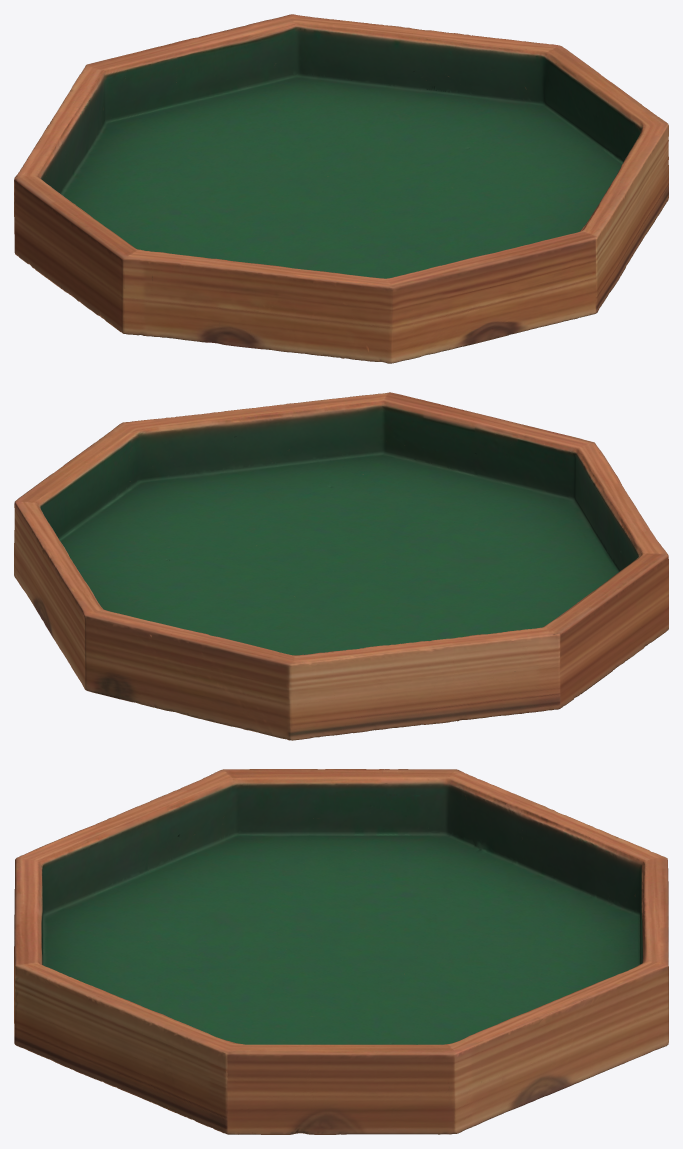
File: bowl_2.obj
The picture shows the model from 3 angles, top to bottom: view 1: azimuth 30°, elevation 25°; view 2: azimuth 150°, elevation 25°; view 3: azimuth 270°, elevation 25°; orthographic projection. The views are drawn at different scales.
Visible parts, largest first — view 1: bowl_2; view 2: bowl_2; view 3: bowl_2.
Part boxes in pixels (x1,y1,x2,y2): bowl_2: [14, 14, 668, 363]; bowl_2: [14, 392, 668, 740]; bowl_2: [14, 769, 668, 1134].
Size of the model in its own units: 2 by 0.2675 by 1.94.
Materials: 1 (1 with a texture image).
